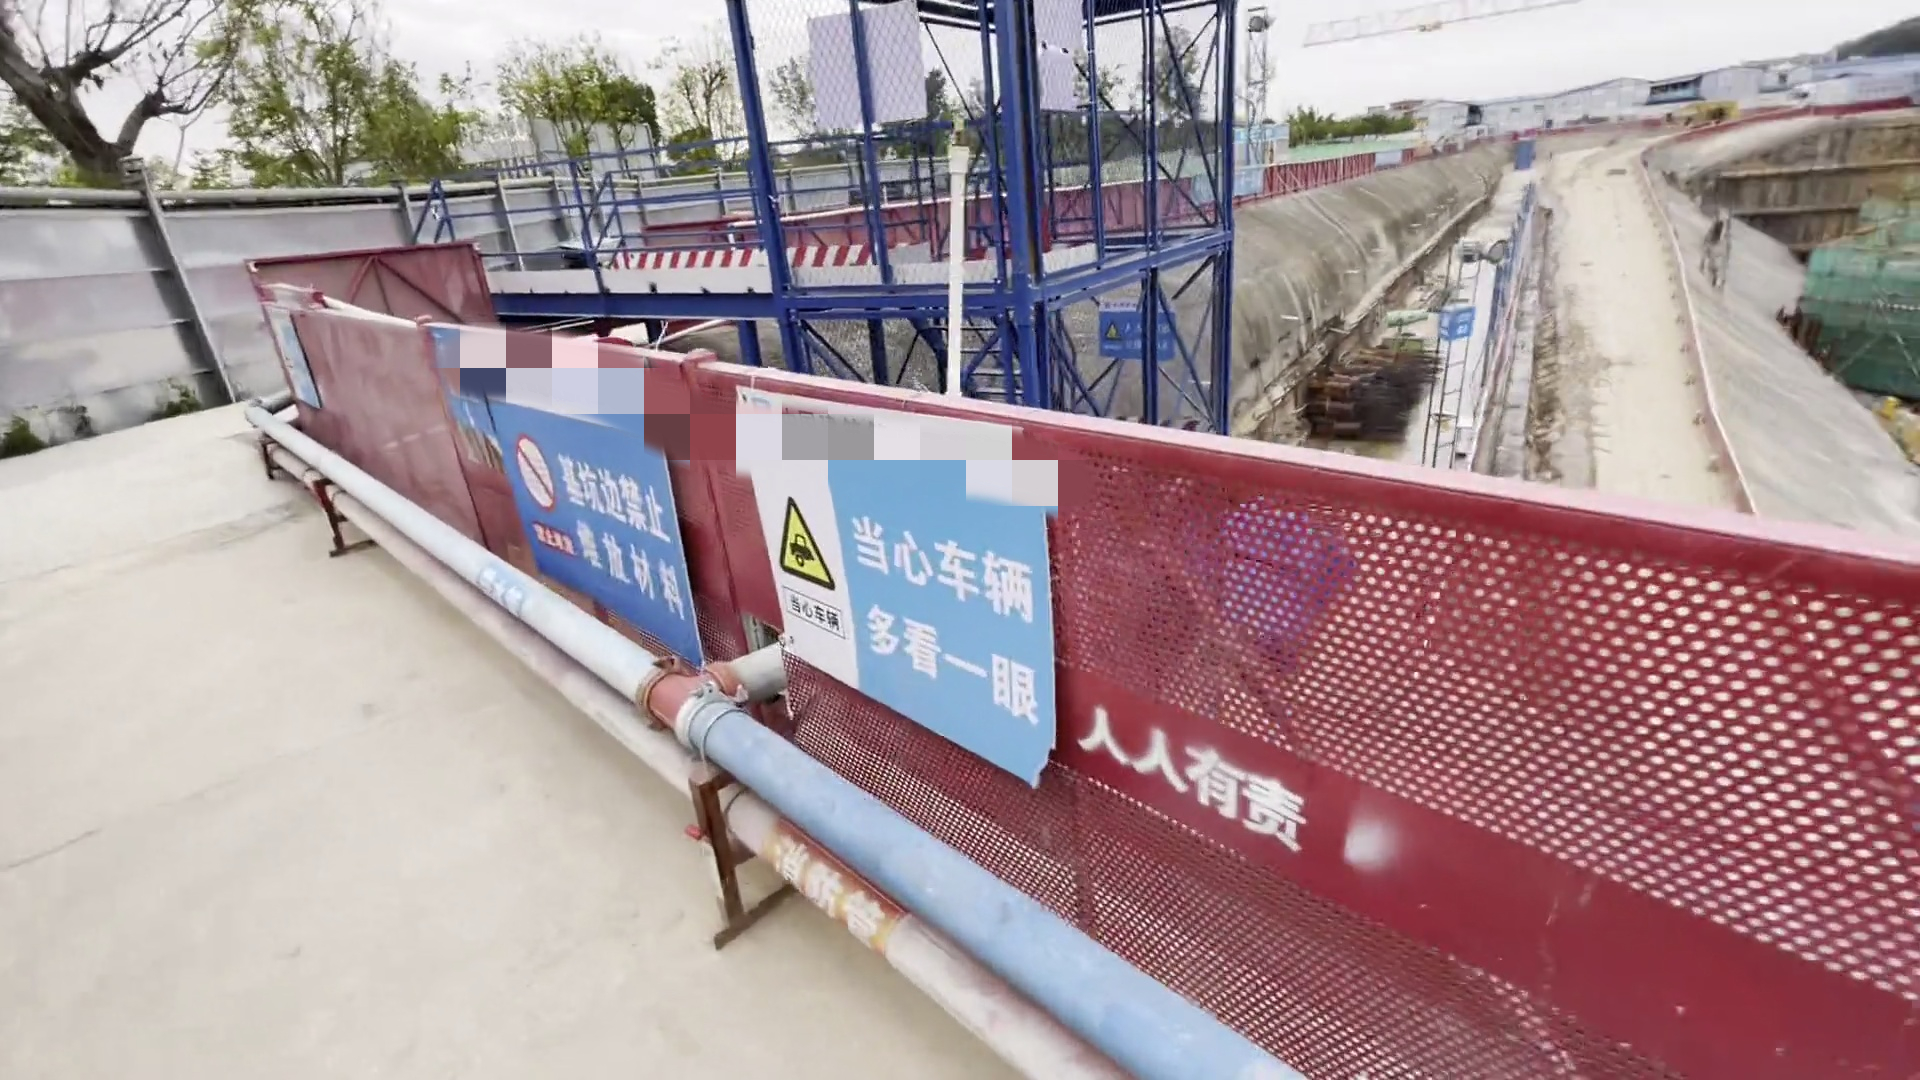fence: (286, 293, 1873, 1058), (1065, 111, 1481, 237)
slogan: (444, 322, 1105, 778), (1098, 294, 1183, 361), (1429, 299, 1494, 353), (1193, 165, 1269, 204), (1240, 123, 1288, 148)
